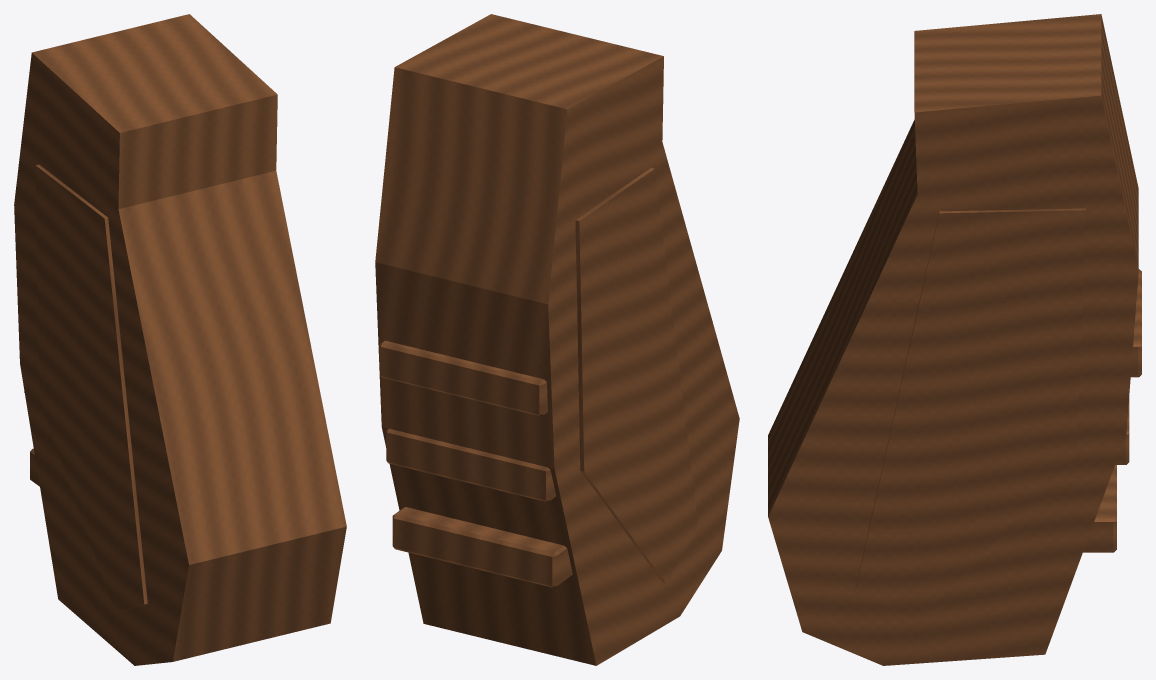
File: pm_grip.glb
3 renders of one model, left to right at view 1: azimuth 30°, elevation 25°; view 2: azimuth 150°, elevation 25°; view 3: azimuth 270°, elevation 25°, orthographic. The views are drawn at different scales.
Visible parts, largest first — view 1: pm_grip_item_profile, pm_grip_item_profile.001; view 2: pm_grip_item_profile, pm_grip_item_profile.001; view 3: pm_grip_item_profile, pm_grip_item_profile.001.
Part boxes in pixels (x1=…): pm_grip_item_profile: x1=16, y1=33, x2=339, y2=657; pm_grip_item_profile.001: x1=14, y1=14, x2=346, y2=665; pm_grip_item_profile: x1=379, y1=18, x2=736, y2=657; pm_grip_item_profile.001: x1=375, y1=14, x2=739, y2=665; pm_grip_item_profile: x1=771, y1=22, x2=1141, y2=657; pm_grip_item_profile.001: x1=768, y1=14, x2=1138, y2=665.
Size of the model in its own units: 0.0648 by 0.202 by 0.12.
1 material, 1 textured.
